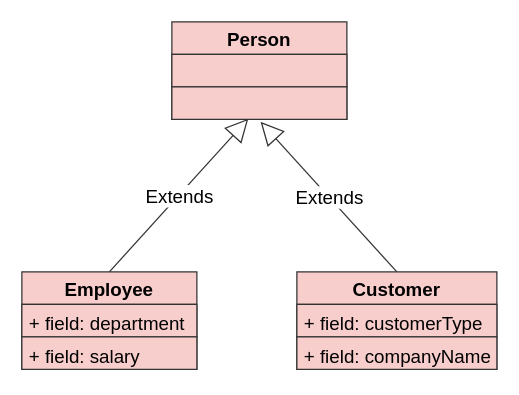
Some shapes in this 519 by 395 pixel diagram are drawn without their labels. Here are the shapes that lost their labels. From the top down, the centre of each, then its label:
At pixel 259 70: "+ field: name".
At pixel 259 102: "+ field: emailId".
